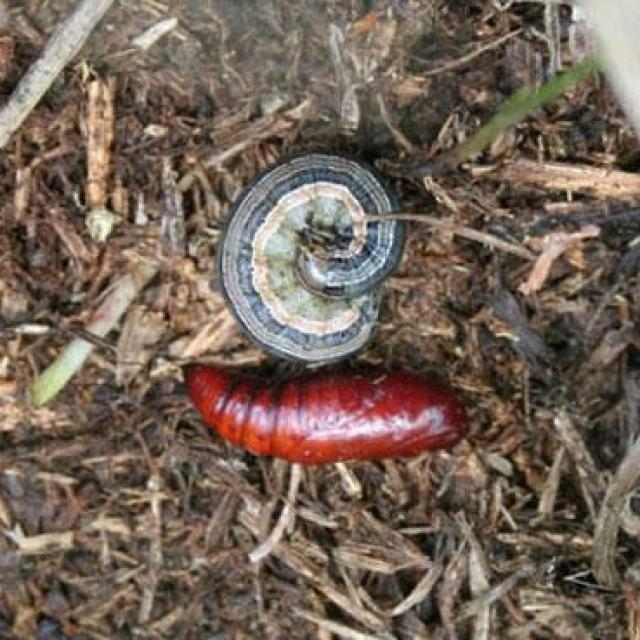army worm: (210, 145, 406, 366), (154, 350, 480, 462)
